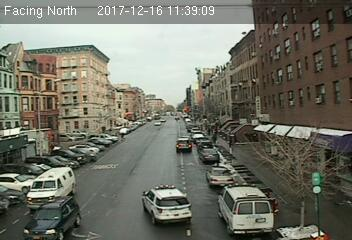car: (21, 199, 80, 238), (206, 163, 234, 186), (199, 147, 219, 163), (176, 137, 191, 150)
police: (222, 182, 275, 237), (138, 184, 195, 228)
truck: (29, 166, 76, 214)
